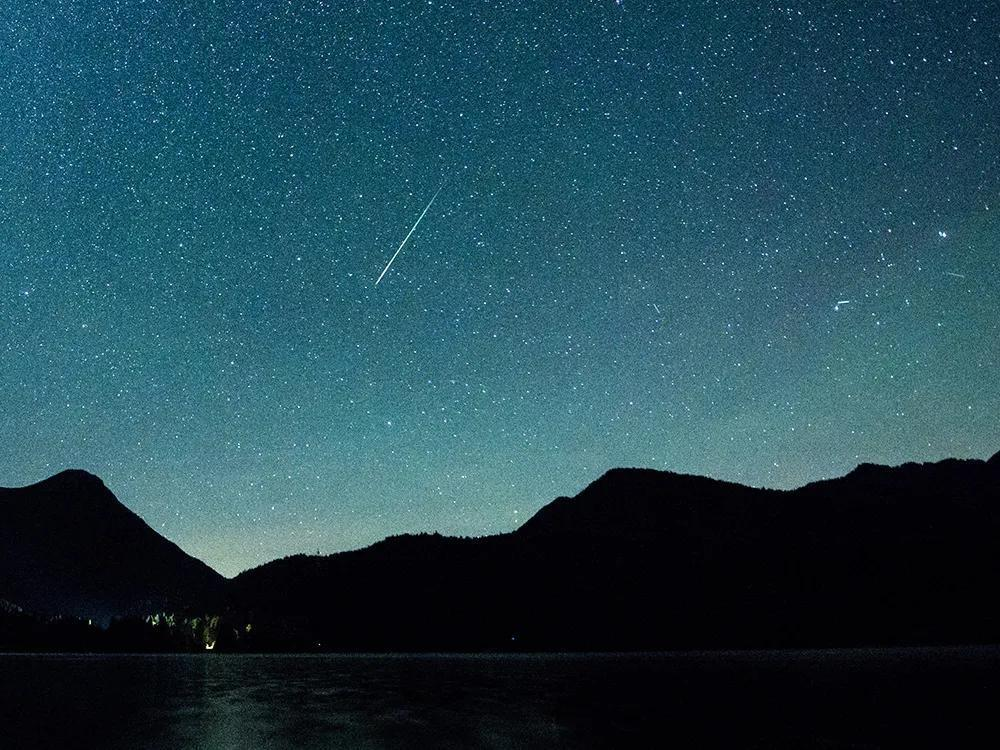meteorite: (356, 168, 456, 288)
